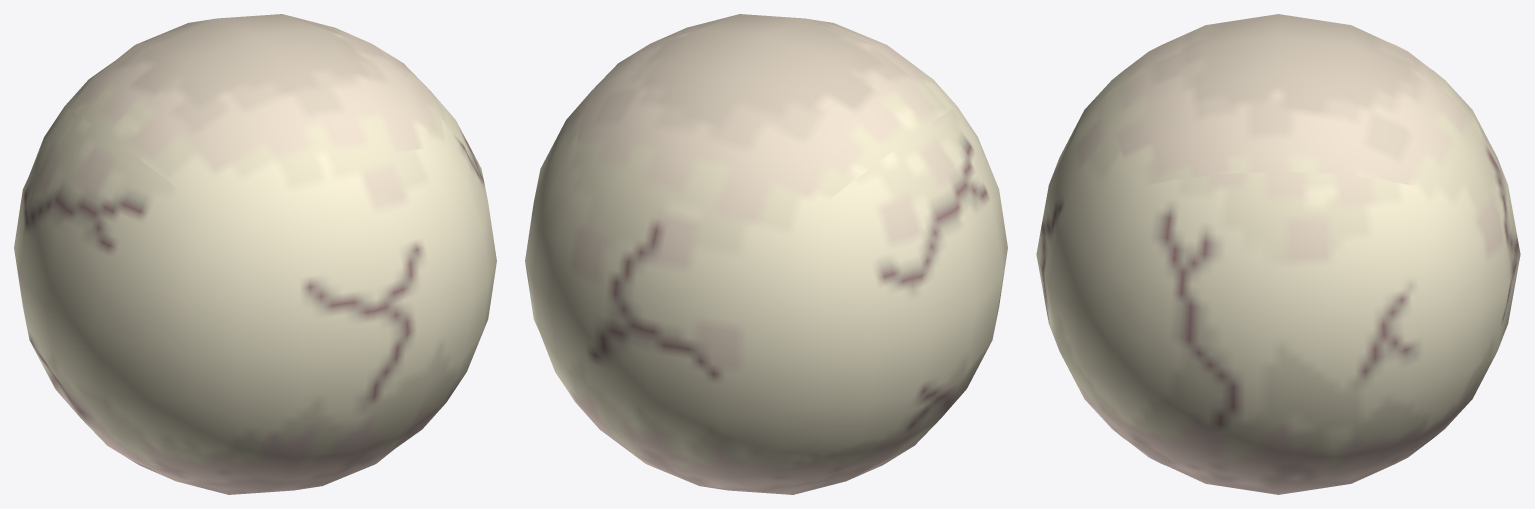
The model's file is huevo.FBX.
3 views of the same model, side by side, from view 1: azimuth 30°, elevation 25°; view 2: azimuth 150°, elevation 25°; view 3: azimuth 270°, elevation 25° (orthographic).
Parts seen in each view (by area): view 1: huevo; view 2: huevo; view 3: huevo.
Part boxes in pixels (bbox=[...]): huevo: bbox=[14, 14, 496, 494]; huevo: bbox=[525, 14, 1007, 494]; huevo: bbox=[1036, 14, 1520, 494].
Size of the model in its own units: 16.42 by 16.42 by 16.42.
